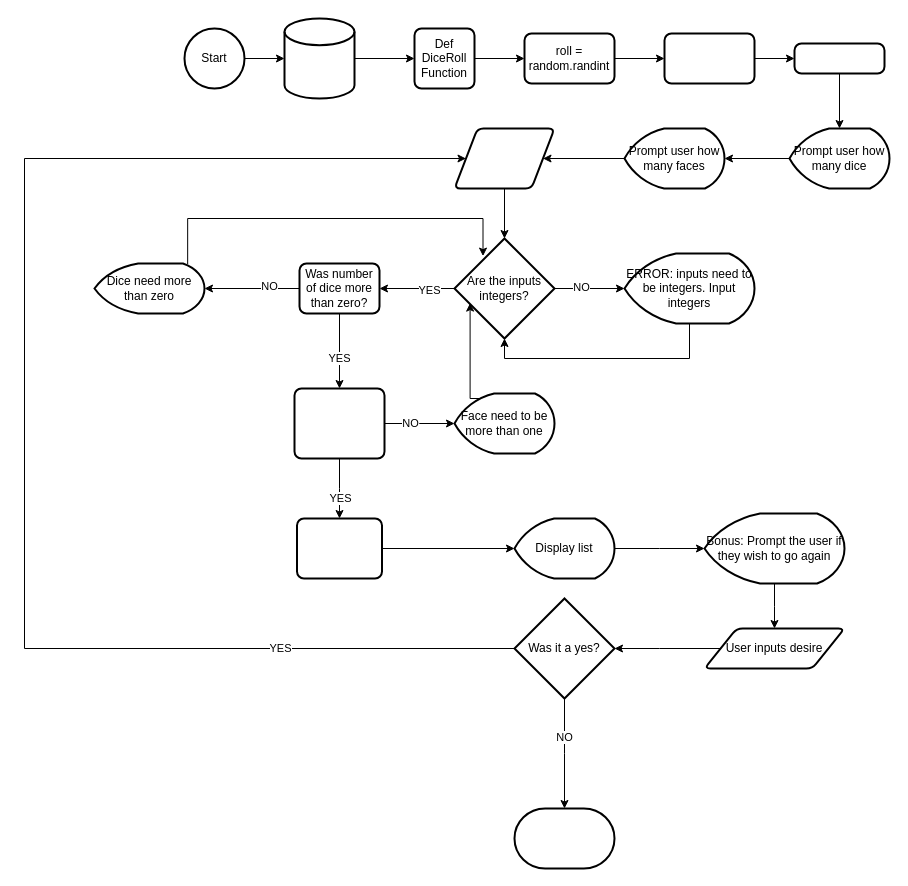
Image size: 908x886. Some labels were removed from this diagram. Here are the shapes that lost their labels. From the top down, the box of each, then its label:
(283, 17, 355, 99): Import random
(663, 32, 755, 84): append result
(793, 42, 885, 74): Return result
(453, 127, 555, 189): Users inputs
(293, 387, 385, 459): Was dice faces more than one?
(296, 517, 382, 579): Compile results
(513, 807, 615, 869): End
